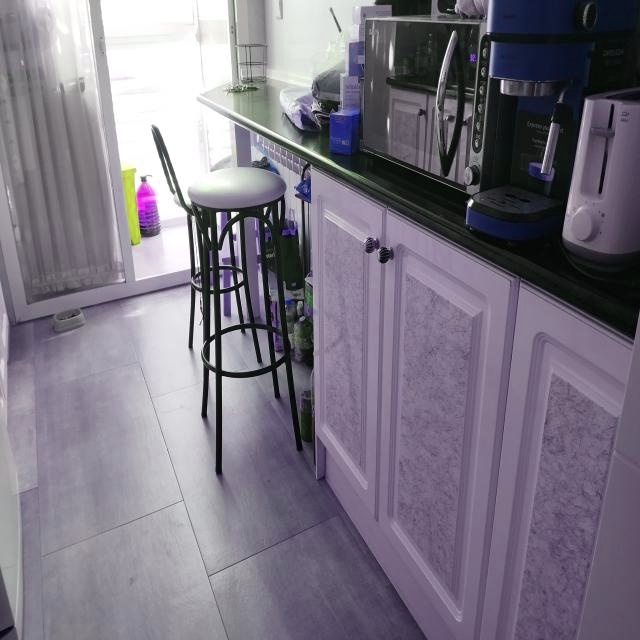cabinet: (309, 167, 513, 640), (483, 282, 632, 640)
chair: (188, 167, 303, 478), (151, 125, 199, 350)
countertop: (198, 77, 640, 336)
microwave: (360, 12, 491, 196)
